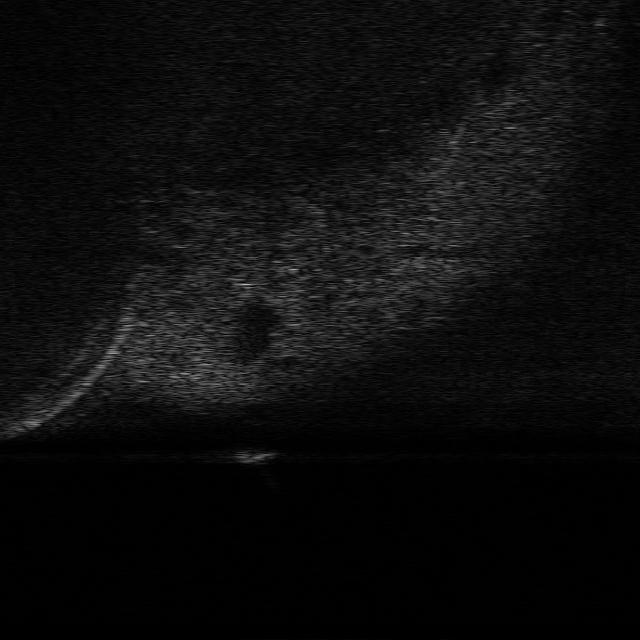cube: (229, 446, 281, 466)
